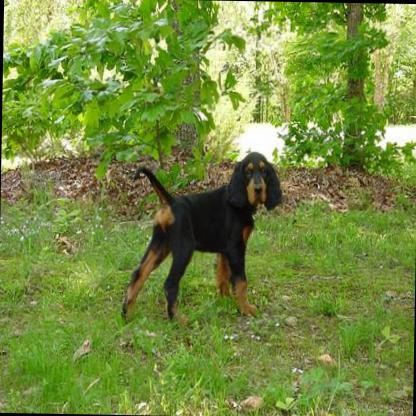Gordon_setter: (115, 148, 283, 326)
